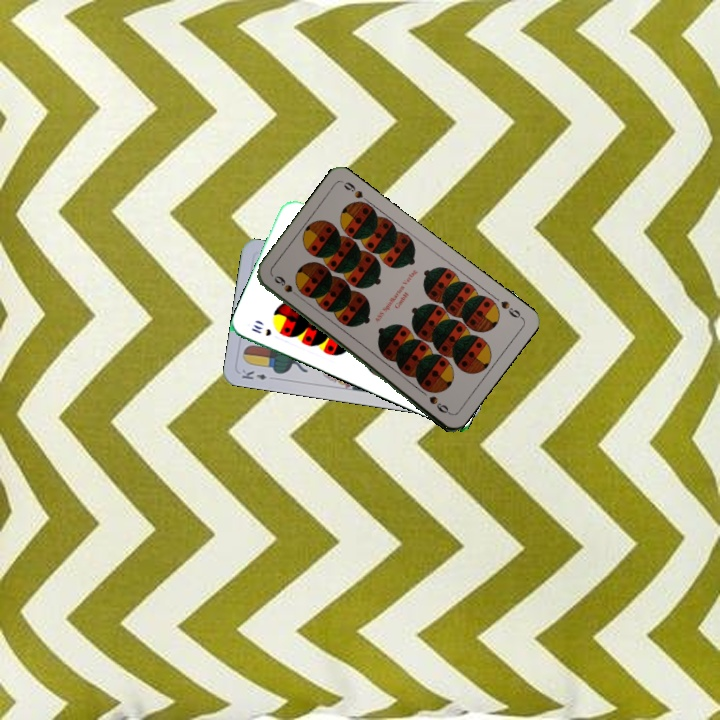EK: (238, 365, 269, 382)
S10: (247, 320, 274, 339)
S9: (270, 271, 304, 301), (497, 297, 525, 321)
